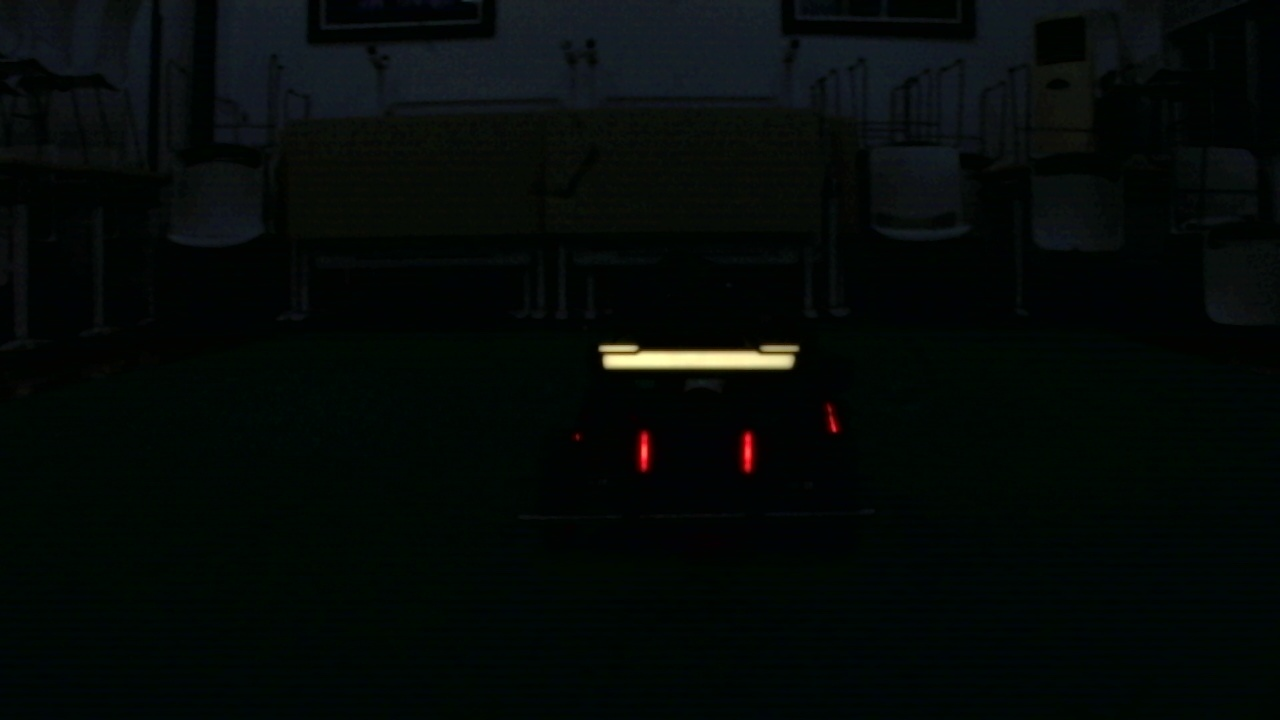lamp: (635, 432, 651, 475), (743, 431, 754, 469)
